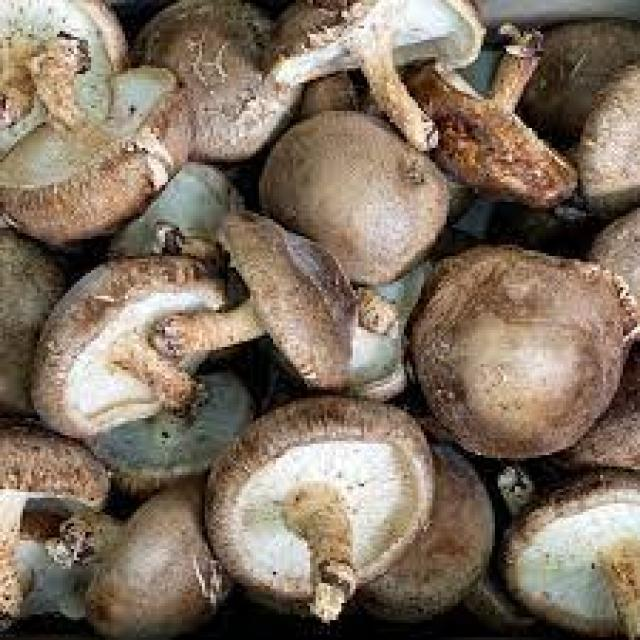Mushroom: (205, 398, 438, 622), (151, 213, 358, 391)
